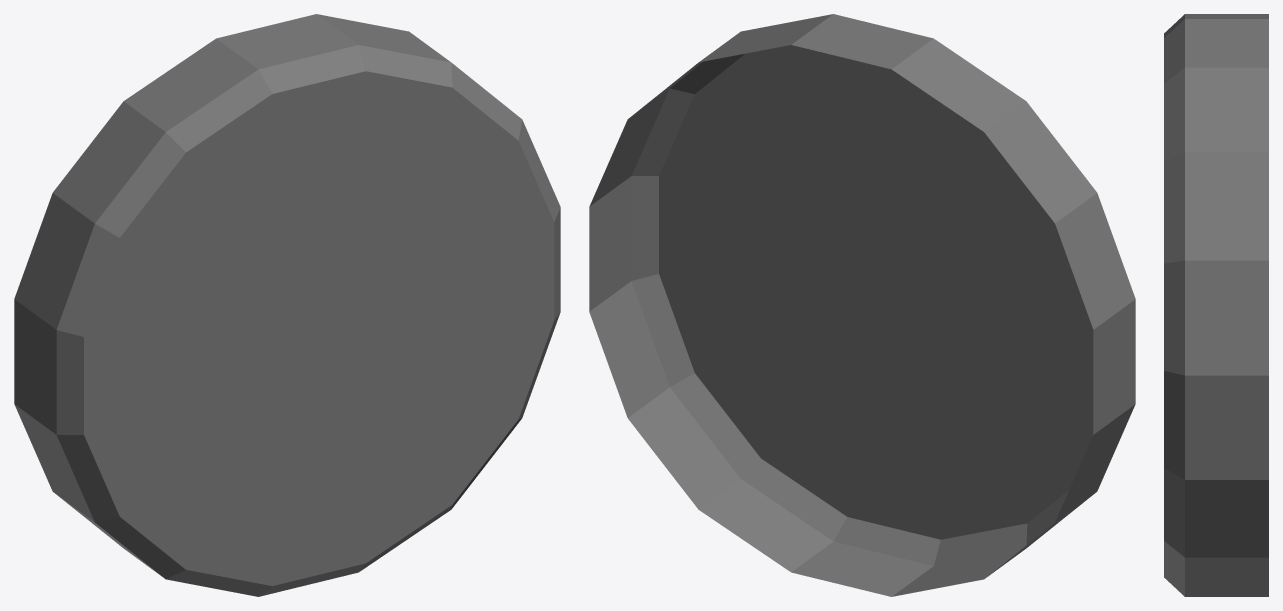
The model's file is HeadTrapBase_2_Stone.fbx.
3 renders of one model, left to right at view 1: azimuth 30°, elevation 25°; view 2: azimuth 150°, elevation 25°; view 3: azimuth 270°, elevation 25°, orthographic.
Parts seen in each view (by area): view 1: HeadTrapBase_2_Stone; view 2: HeadTrapBase_2_Stone; view 3: HeadTrapBase_2_Stone.
Part boxes in pixels (x1,y1,x2,y2): HeadTrapBase_2_Stone: [14, 14, 560, 596]; HeadTrapBase_2_Stone: [589, 14, 1135, 596]; HeadTrapBase_2_Stone: [1164, 14, 1268, 596].
Size of the model in its own units: 53.66 by 53.66 by 9.74.
